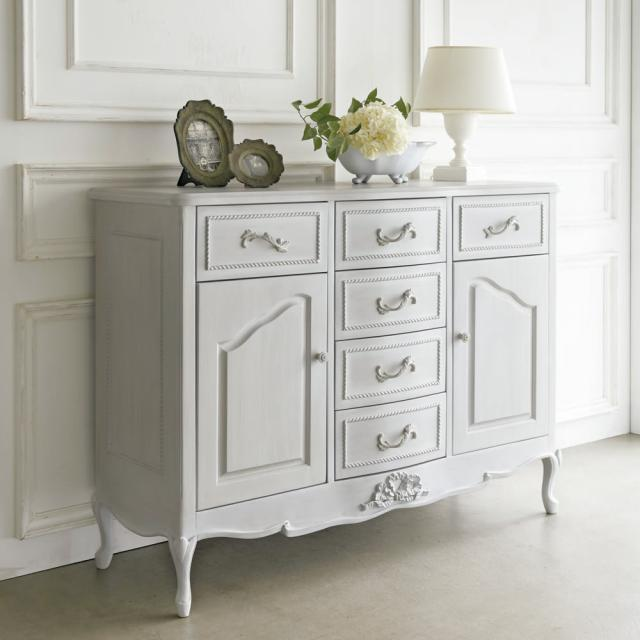white shelf: (78, 171, 556, 610)
